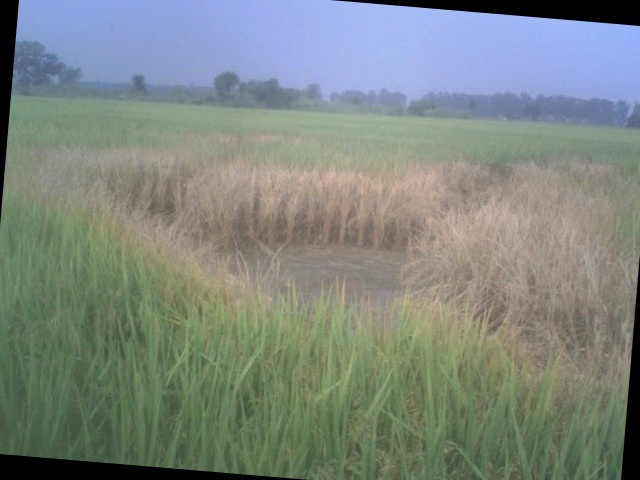Hopper_burn: (196, 164, 605, 329)
